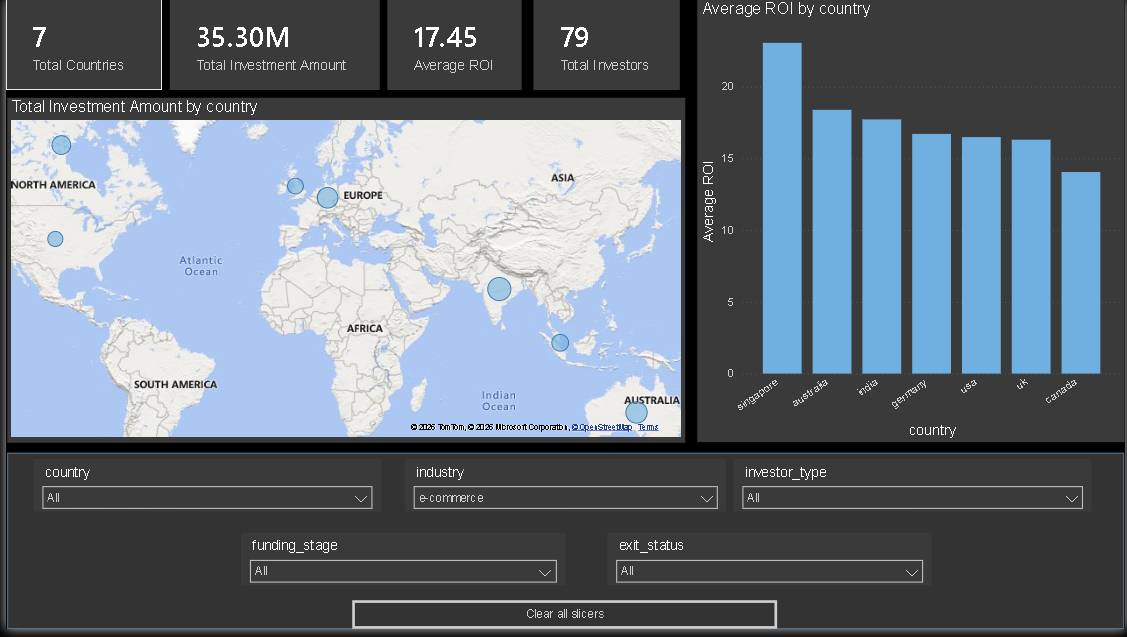

Layout of this report page (visuals, bound fields, positions):
{"tool":"powerbi","page":{"name":"Geographical and Data Quality","canvas":[1280,720],"ordinal":2},"visuals":[{"type":"group","id":"g1","title":"Group 4","box":[1.2,518.8,1277.6,201.5],"z":0},{"type":"group","id":"g2","title":"Group 3","box":[1.2,518.8,1277.6,201.5],"z":0,"group":"g1"},{"type":"slicer","fields":{"Values":["Fact_Investments.country"]},"box":[31.7,526.6,397.2,59.8],"z":0,"group":"g3"},{"type":"cardVisual","fields":{"Data":["Measure.Total Countries"]},"box":[0,0,178.8,103.8],"z":1000},{"type":"slicer","fields":{"Values":["Fact_Investments.industry"]},"box":[455.6,526.6,367.6,59.8],"z":1000,"group":"g3"},{"type":"actionButton","box":[395.7,687.7,485.5,32.5],"z":1000,"group":"g1"},{"type":"cardVisual","fields":{"Data":["Measure.Total Investment Amount"]},"box":[187.5,0,240,103.8],"z":2000},{"type":"slicer","fields":{"Values":["Fact_Investments.investor_type"]},"box":[832,526.6,409.1,59.8],"z":2000,"group":"g3"},{"type":"cardVisual","fields":{"Data":["Measure.Average ROI"]},"box":[436.2,0,153.8,103.8],"z":3000},{"type":"slicer","fields":{"Values":["Fact_Investments.funding_stage"]},"box":[268.8,610.7,370.5,59.8],"z":3000,"group":"g3"},{"type":"cardVisual","fields":{"Data":["Measure.Total Investors"]},"box":[602.5,0,167.5,103.8],"z":4000},{"type":"slicer","fields":{"Values":["Fact_Investments.exit_status"]},"box":[686.8,610.7,370.5,59.8],"z":4000,"group":"g3"},{"type":"map","fields":{"Size":["Measure.Total Investment Amount"],"Category":["Fact_Investments.country"]},"box":[1.2,113.4,774.5,393.3],"z":5000},{"type":"clusteredColumnChart","fields":{"Category":["Fact_Investments.country"],"Y":["Measure.Average ROI"]},"box":[790.2,0,489.8,506.7],"z":6000},{"type":"shape","box":[1.2,518.8,1277.6,201.5],"z":10001,"group":"g2"},{"type":"group","id":"g3","title":"Group 2","box":[31.7,526.6,1210.8,143.9],"z":10008,"group":"g2"}]}

Visuals, with their boxes in screenshot pixels (x1, y1, x2, y2), scaled from the page's 1280x720 canvas onto the 1127x637 screenshot:
"Group 4" group: <bbox>1, 459, 1126, 636</bbox>
"Group 3" group: <bbox>1, 459, 1126, 636</bbox>
slicer - Fact_Investments.country: <bbox>28, 466, 378, 519</bbox>
cardVisual - Measure.Total Countries: <bbox>0, 0, 157, 92</bbox>
slicer - Fact_Investments.industry: <bbox>401, 466, 725, 519</bbox>
actionButton: <bbox>348, 608, 776, 636</bbox>
cardVisual - Measure.Total Investment Amount: <bbox>165, 0, 376, 92</bbox>
slicer - Fact_Investments.investor_type: <bbox>733, 466, 1093, 519</bbox>
cardVisual - Measure.Average ROI: <bbox>384, 0, 519, 92</bbox>
slicer - Fact_Investments.funding_stage: <bbox>237, 540, 563, 593</bbox>
cardVisual - Measure.Total Investors: <bbox>530, 0, 678, 92</bbox>
slicer - Fact_Investments.exit_status: <bbox>605, 540, 931, 593</bbox>
map - Measure.Total Investment Amount x Fact_Investments.country: <bbox>1, 100, 683, 448</bbox>
clusteredColumnChart - Fact_Investments.country x Measure.Average ROI: <bbox>696, 0, 1126, 448</bbox>
shape: <bbox>1, 459, 1126, 636</bbox>
"Group 2" group: <bbox>28, 466, 1094, 593</bbox>
